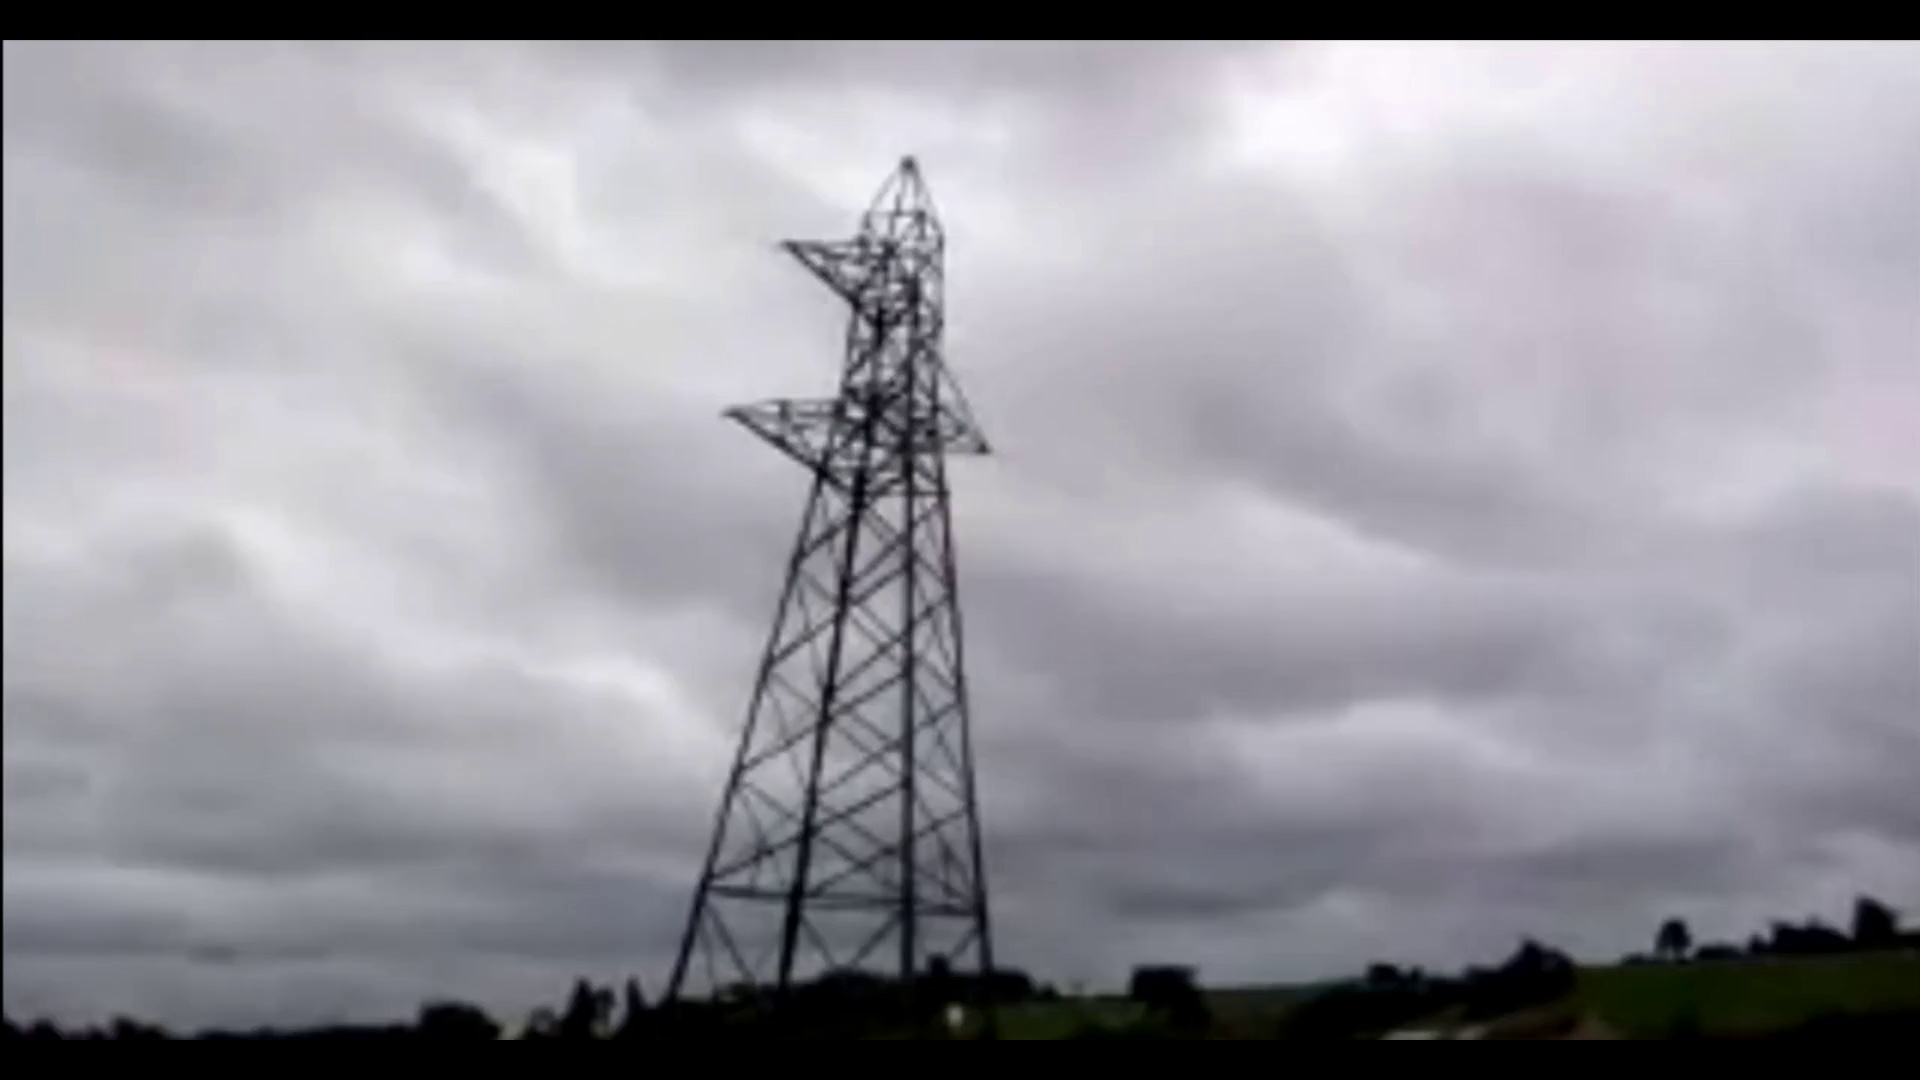tower_up: (632, 105, 1040, 994)
